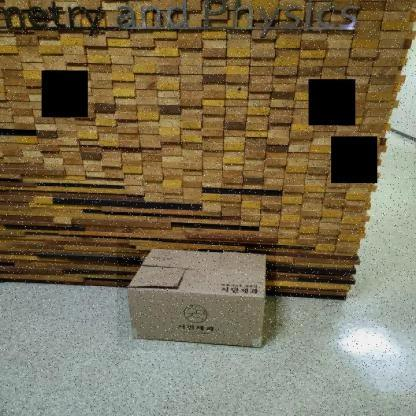-: (117, 238, 276, 351)
